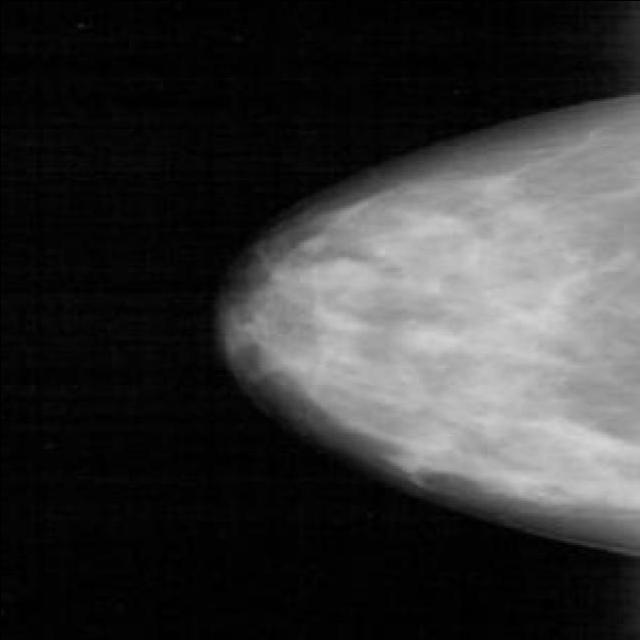tumor: (304, 207, 486, 367)
